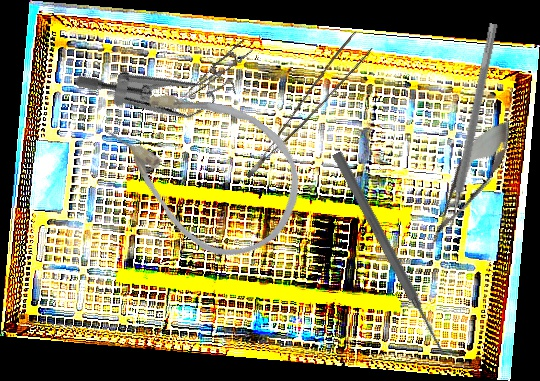Cannula: (85, 51, 327, 281)
Micro Scissor: (411, 108, 524, 261)
Pusher: (329, 149, 450, 358)
Spatula Surgical: (438, 21, 499, 234)
Speculum: (72, 0, 260, 162)
Tissue Forceps: (225, 30, 380, 179), (157, 38, 257, 112)
